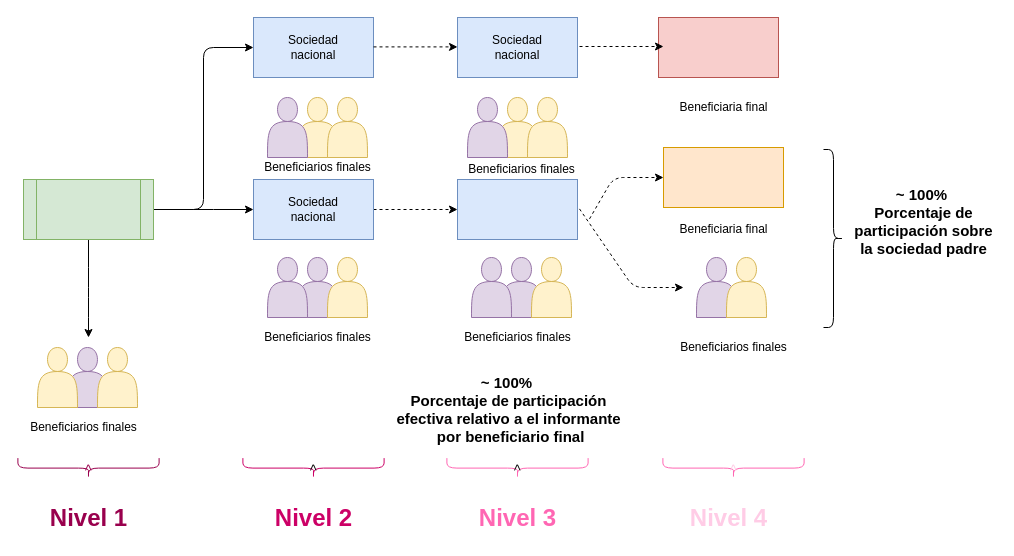
Image size: 1014x556. Some labels were removed from this diagram. Here are the shapes that lost their labels. From the top down, the box of each, then its label:
(658, 16, 778, 78): Empresa publica
(662, 146, 784, 208): Sociedad extranjera
(22, 178, 154, 240): Informante
(456, 178, 578, 240): Sociedad nacional padre
